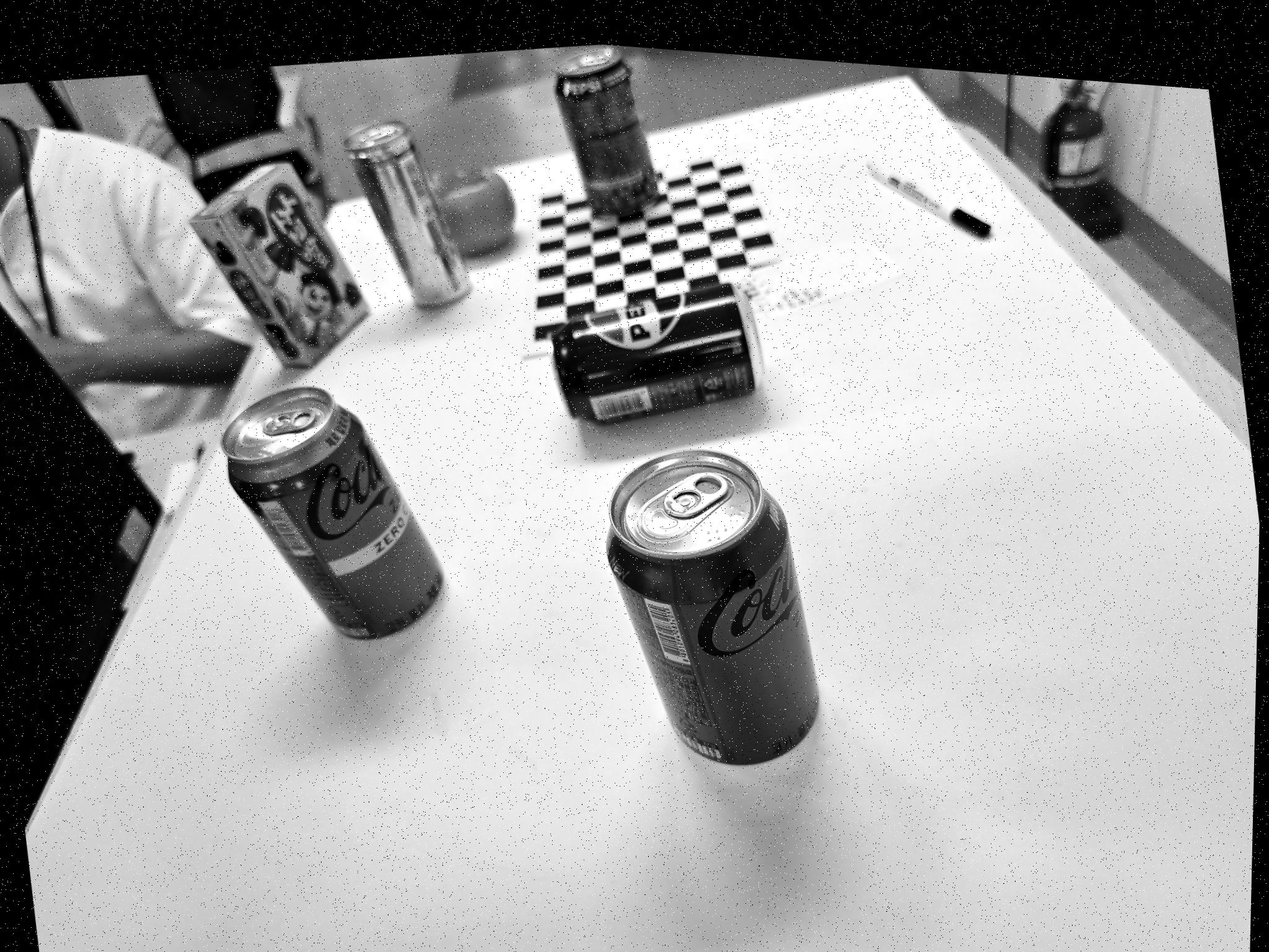can_coke_decaf: (221, 386, 446, 638)
can_coke_zero: (605, 451, 819, 762)
can_pepsi: (547, 281, 764, 425)
